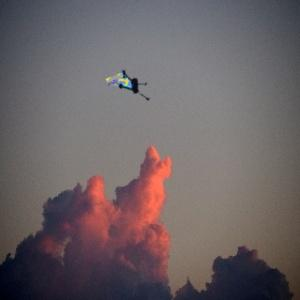drone: (112, 66, 160, 114)
